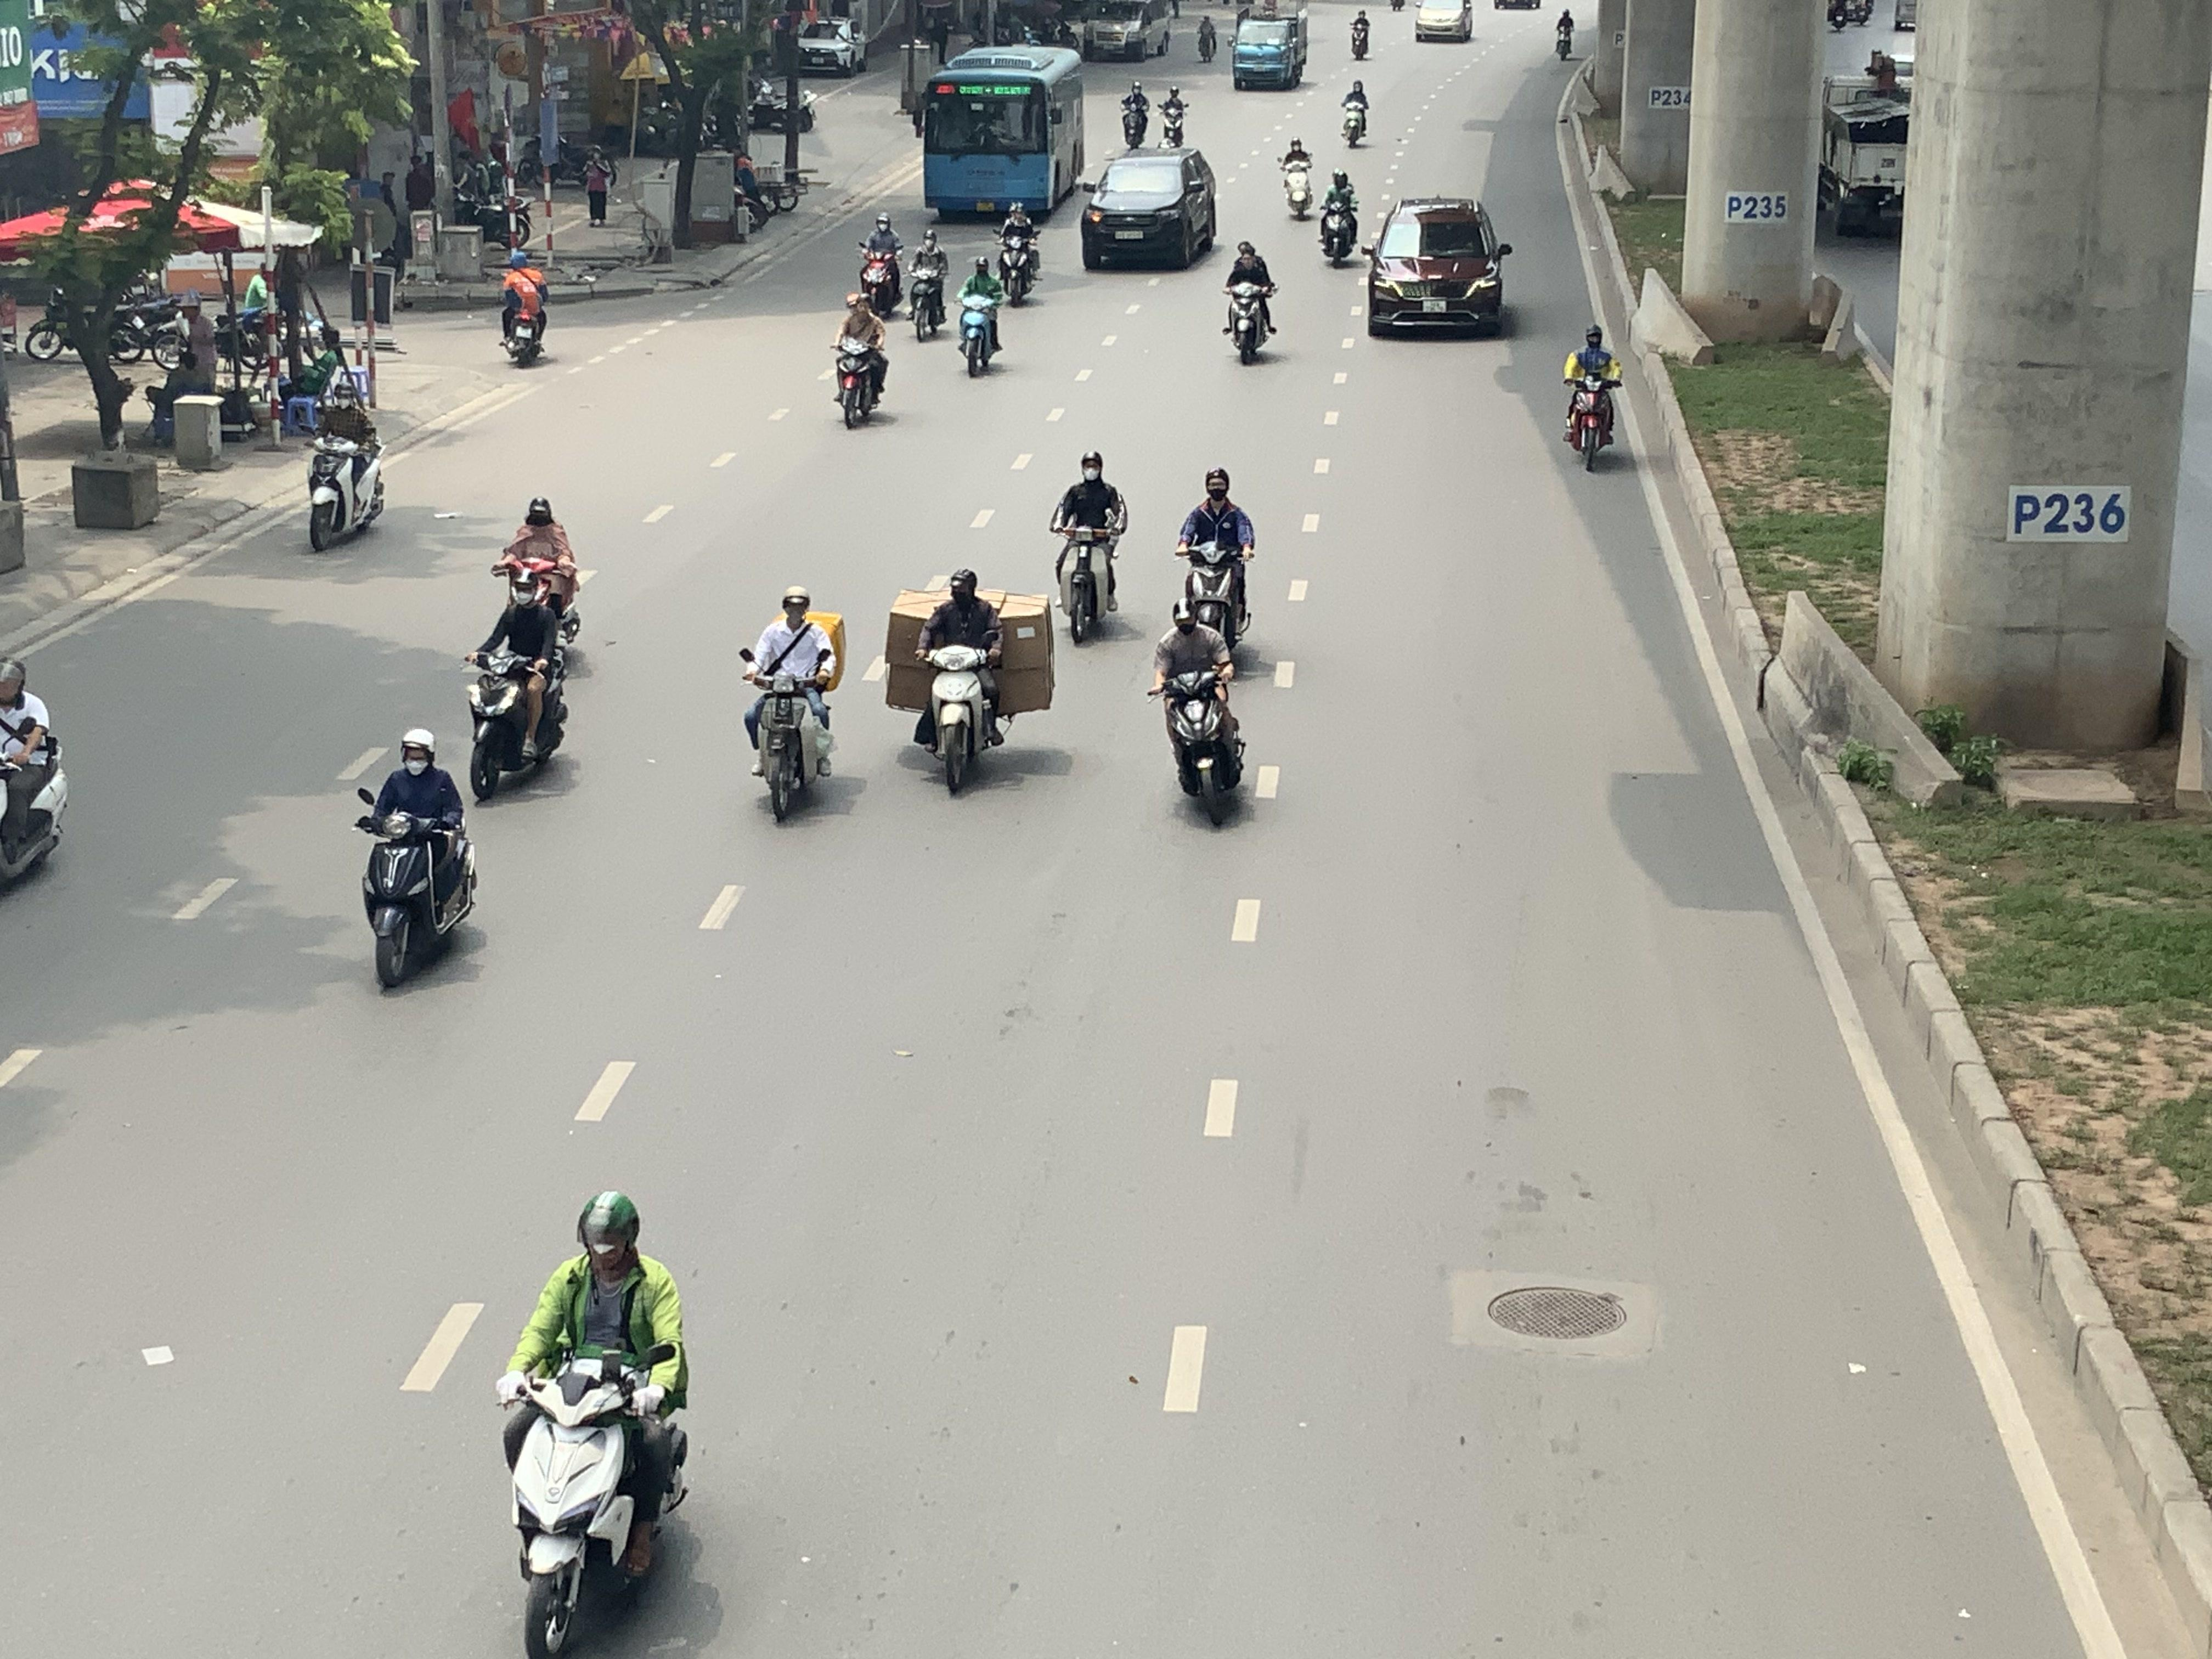bus: (918, 44, 1087, 223)
car: (1364, 197, 1515, 340), (1080, 148, 1219, 272), (794, 17, 867, 75), (1414, 0, 1474, 44)
motorbike: (498, 1188, 693, 1659), (355, 727, 477, 995), (463, 568, 571, 805), (742, 584, 841, 826), (911, 566, 1010, 798), (1151, 598, 1249, 831), (0, 653, 68, 911), (1174, 469, 1256, 653), (1050, 450, 1127, 647), (493, 497, 585, 655), (305, 380, 387, 552), (1562, 322, 1623, 472), (831, 289, 888, 429), (1223, 239, 1278, 366), (498, 251, 549, 369), (956, 256, 1003, 376), (857, 214, 906, 319), (995, 199, 1042, 307), (907, 227, 949, 342), (1317, 167, 1362, 270), (1278, 134, 1315, 220), (1339, 77, 1371, 148), (1120, 80, 1150, 152), (1160, 82, 1190, 150), (1348, 5, 1372, 61), (1195, 9, 1219, 64), (1554, 5, 1575, 59)
